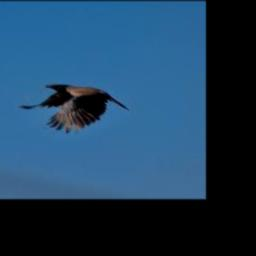Crow: (18, 84, 129, 133)
